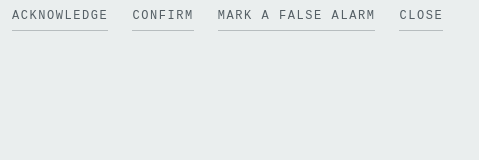
AlertActions › says why an action was refused
The image size is (479, 160).
Click the button "Acknowledge" at coordinates (60, 17), box [12,4,108,31]
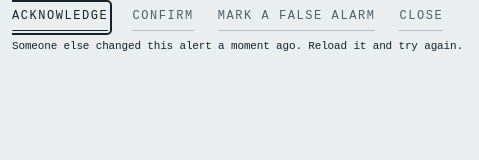
Expected: the message shows "Someone else changed this alert", [12,40,463,52]
